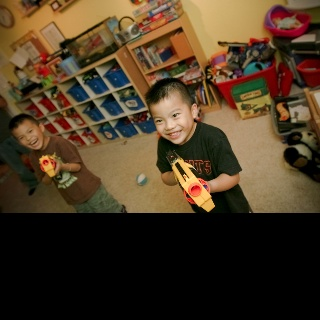without_mask: (148, 94, 195, 145), (11, 119, 43, 151)
